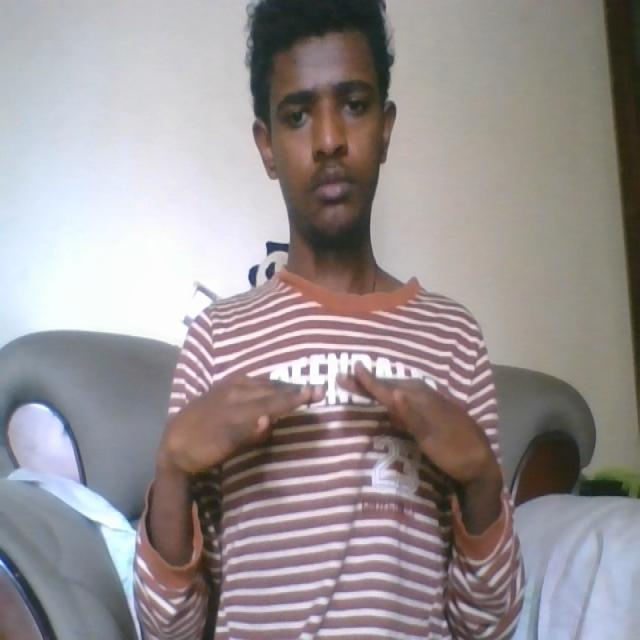meznanat: (170, 364, 489, 486)
